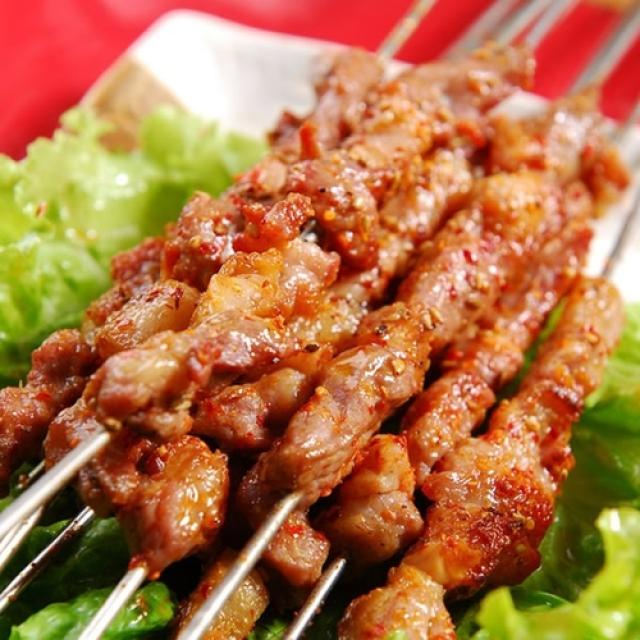烧串烤肉: (23, 26, 620, 618)
